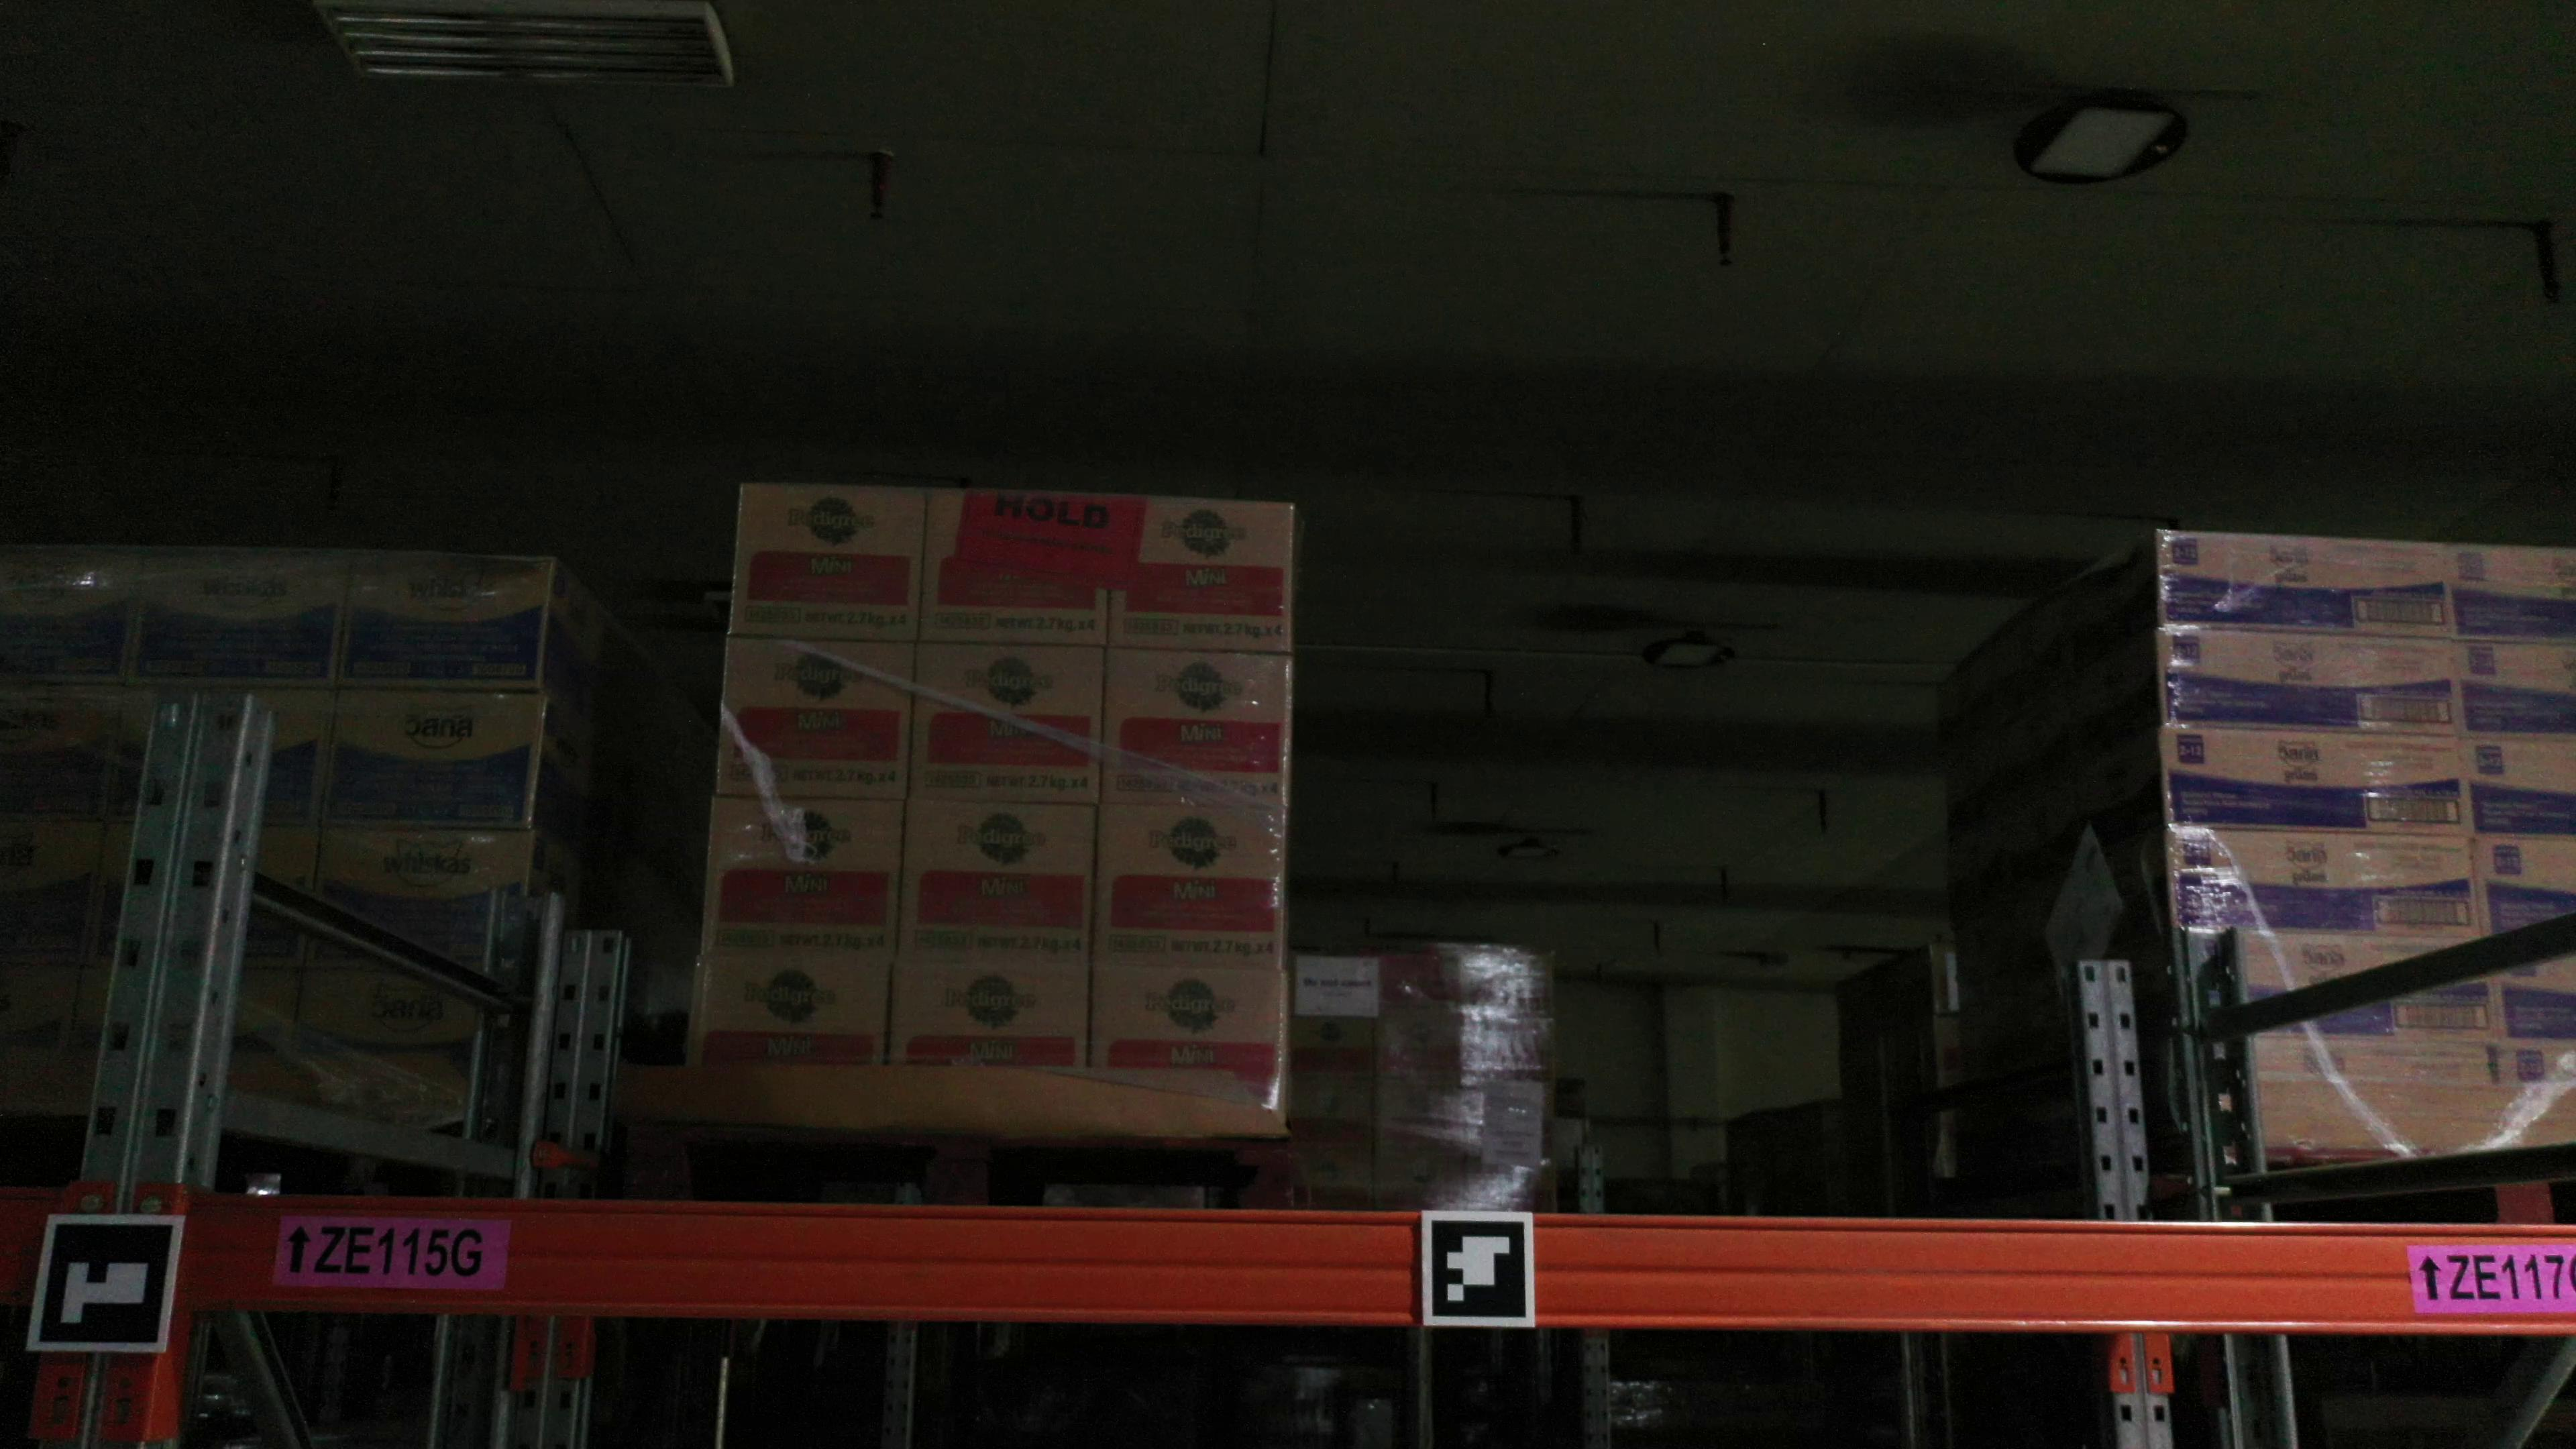box: (2162, 725, 2470, 842), (80, 821, 315, 971), (2157, 525, 2457, 642), (695, 798, 908, 962), (2171, 832, 2482, 941), (315, 685, 548, 830), (890, 803, 1097, 966), (2157, 632, 2459, 740), (729, 481, 927, 646), (718, 640, 918, 803), (913, 642, 1108, 807), (126, 548, 354, 688), (303, 832, 531, 971), (110, 685, 331, 828), (1099, 651, 1293, 812), (1088, 807, 1283, 968), (1104, 495, 1297, 656), (918, 490, 1109, 651), (338, 548, 552, 692), (1088, 966, 1286, 1113), (2242, 932, 2496, 1044), (888, 954, 1093, 1079), (686, 957, 888, 1065), (0, 543, 143, 688), (290, 966, 488, 1058), (0, 685, 126, 821), (0, 817, 106, 970), (2249, 1031, 2496, 1088), (2449, 545, 2574, 648), (2457, 640, 2576, 745), (2463, 740, 2574, 842), (2473, 837, 2576, 941), (2489, 952, 2576, 1054), (0, 962, 81, 1054), (2498, 1040, 2576, 1090)
